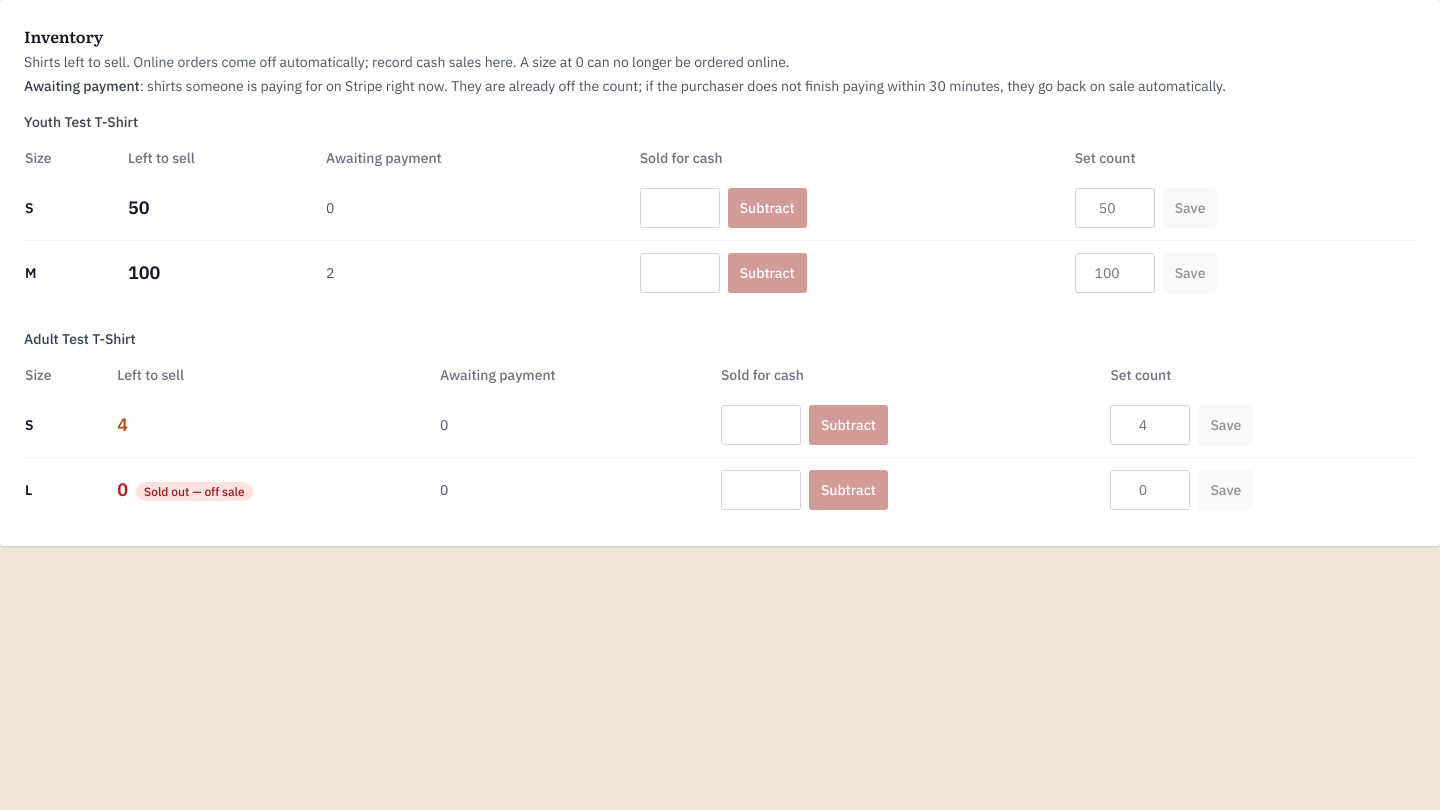
Test: MerchInventoryPanel › will not subtract more than the count holds
Type "5" into the number field named "Shirts sold for cash, Adult Test T-Shirt size S". click: coordinates (761, 425)
box: left=721, top=405, right=801, bottom=445
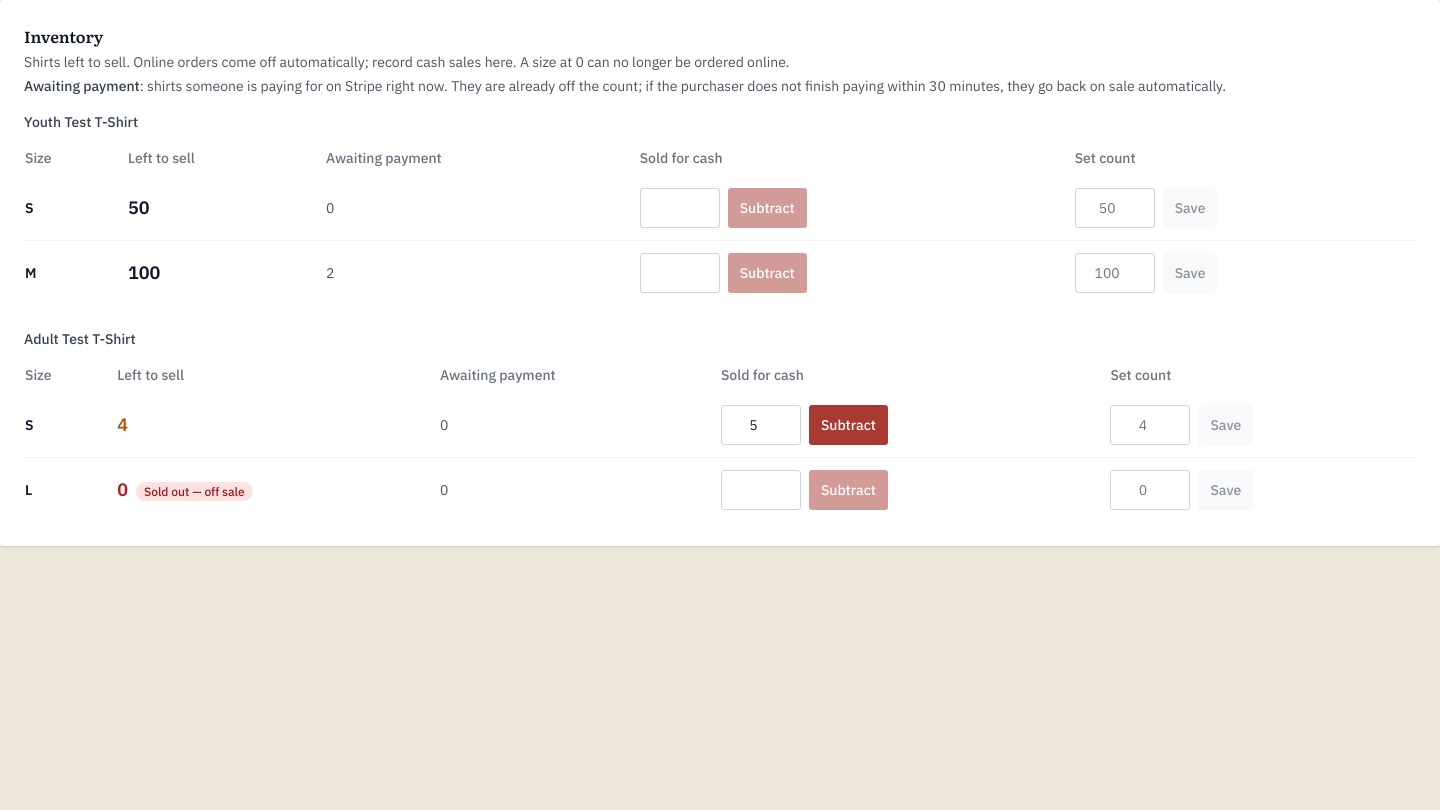
Click the 3rd button "Subtract". click: coordinates (848, 425)
box: left=809, top=405, right=888, bottom=445
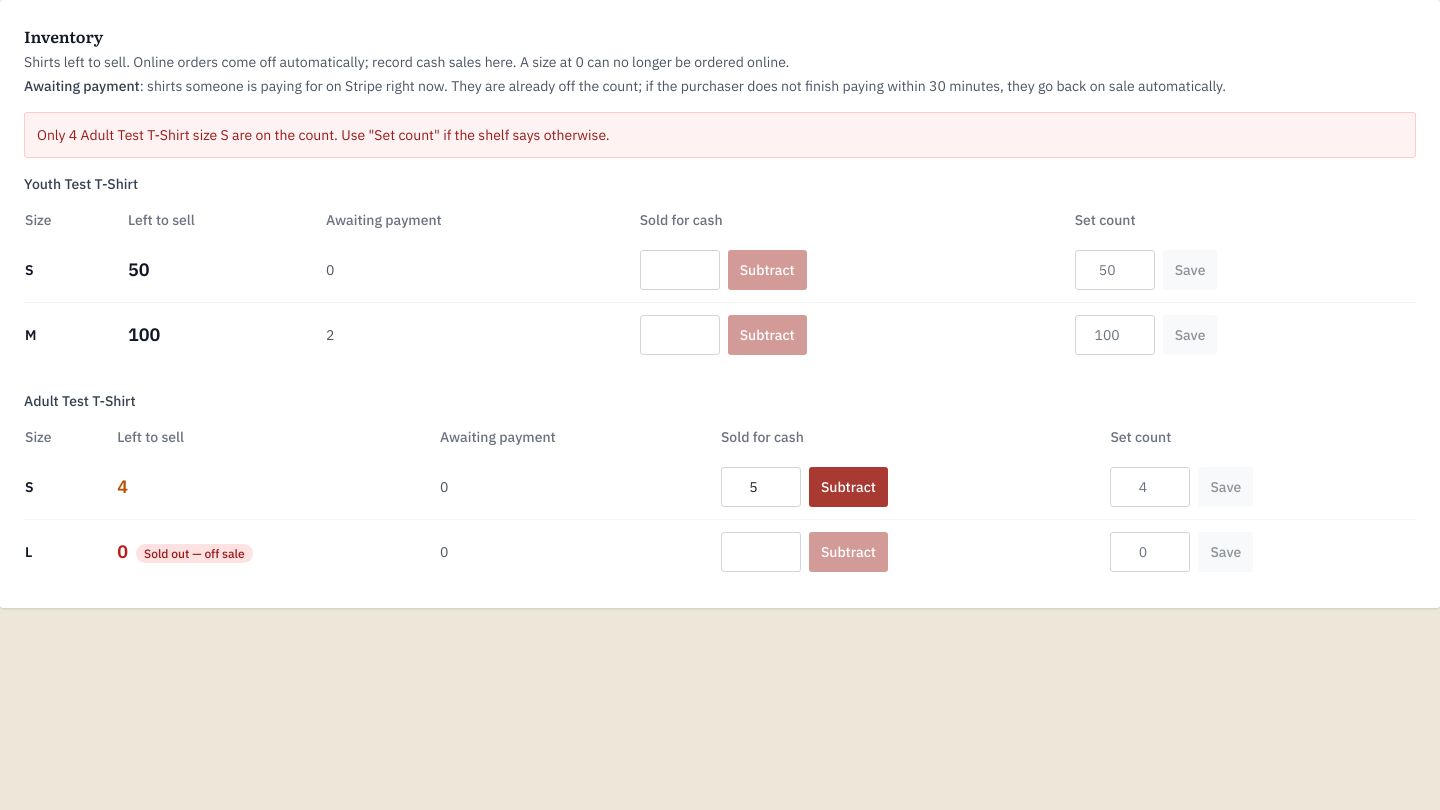
Check: the message shows "Only 4", box left=37, top=126, right=610, bottom=144
